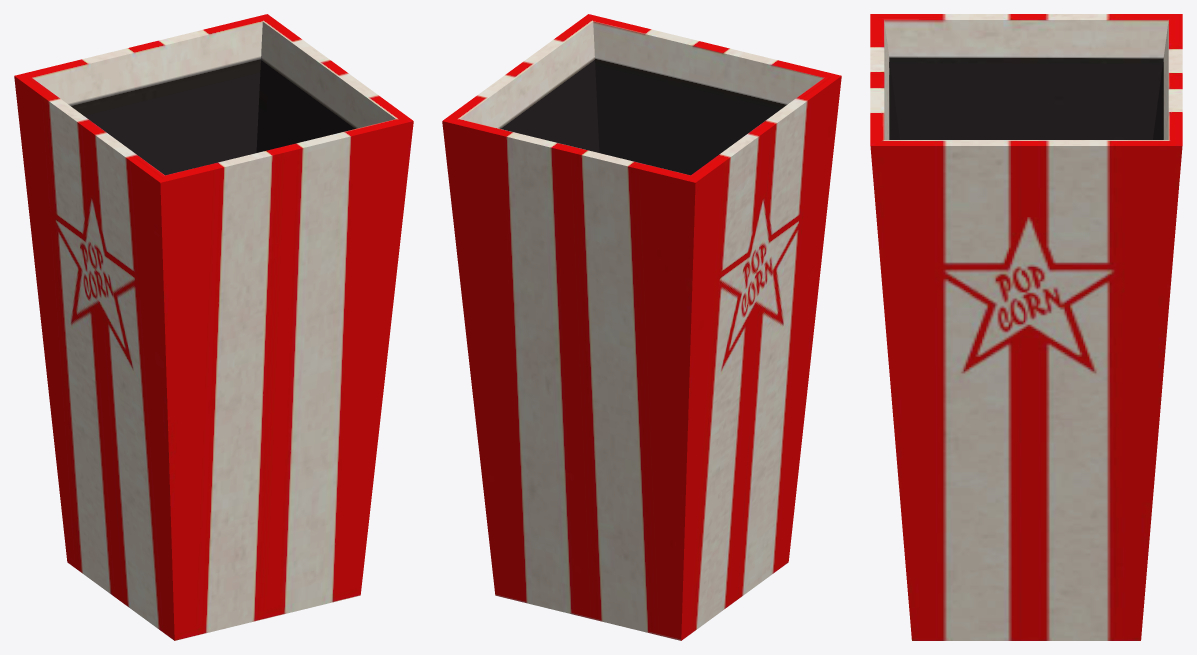
File: popcorn_box.fbx
3 views of the same model, side by side, from view 1: azimuth 30°, elevation 25°; view 2: azimuth 150°, elevation 25°; view 3: azimuth 270°, elevation 25° (orthographic). The views are drawn at different scales.
Visible parts, largest first — view 1: headusOBJexport; view 2: headusOBJexport; view 3: headusOBJexport.
Boxes of the visible parts, box(x1,y1,x2,y2) form: headusOBJexport: box(14, 14, 413, 640); headusOBJexport: box(442, 14, 841, 640); headusOBJexport: box(870, 14, 1182, 640).
Bounding box in the file's own units: 0.16 × 0.29 × 0.16.
Materials: 1 (1 with a texture image).
